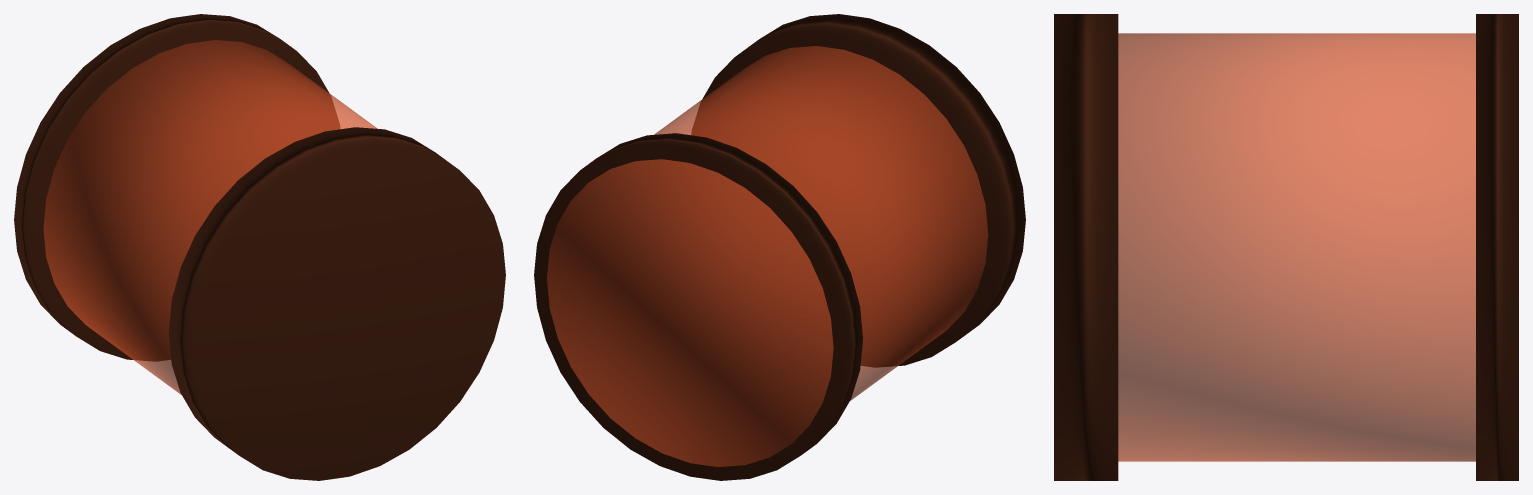
The model's file is wire.glb.
3 views of the same model, side by side, from view 1: azimuth 30°, elevation 25°; view 2: azimuth 150°, elevation 25°; view 3: azimuth 270°, elevation 25° (orthographic). The views are drawn at different scales.
Visible parts, largest first — view 1: Cylinder.003, Cylinder.005, Cylinder.002; view 2: Cylinder.002, Cylinder.005, Cylinder.003; view 3: Cylinder.002, Cylinder.003, Cylinder.005.
Boxes of the visible parts, x1,y1,x2,y2 form: Cylinder.003: (168, 127, 505, 480); Cylinder.005: (14, 14, 339, 361); Cylinder.002: (43, 40, 377, 394); Cylinder.002: (547, 46, 988, 466); Cylinder.005: (534, 133, 862, 480); Cylinder.003: (691, 14, 1025, 367); Cylinder.002: (1118, 33, 1475, 461); Cylinder.003: (1054, 14, 1118, 480); Cylinder.005: (1476, 14, 1518, 480).
Bounding box in the file's own units: 0.2178 × 0.2178 × 0.2165.
